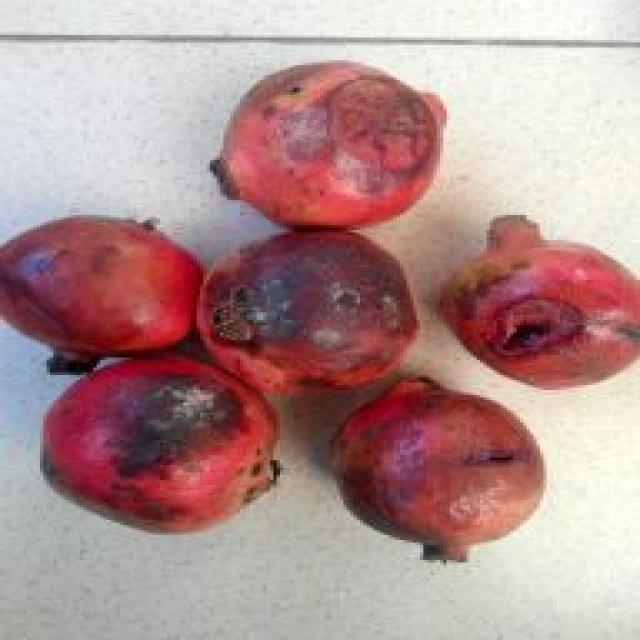Rotten: (39, 357, 280, 536), (212, 62, 452, 228), (440, 210, 640, 390)
